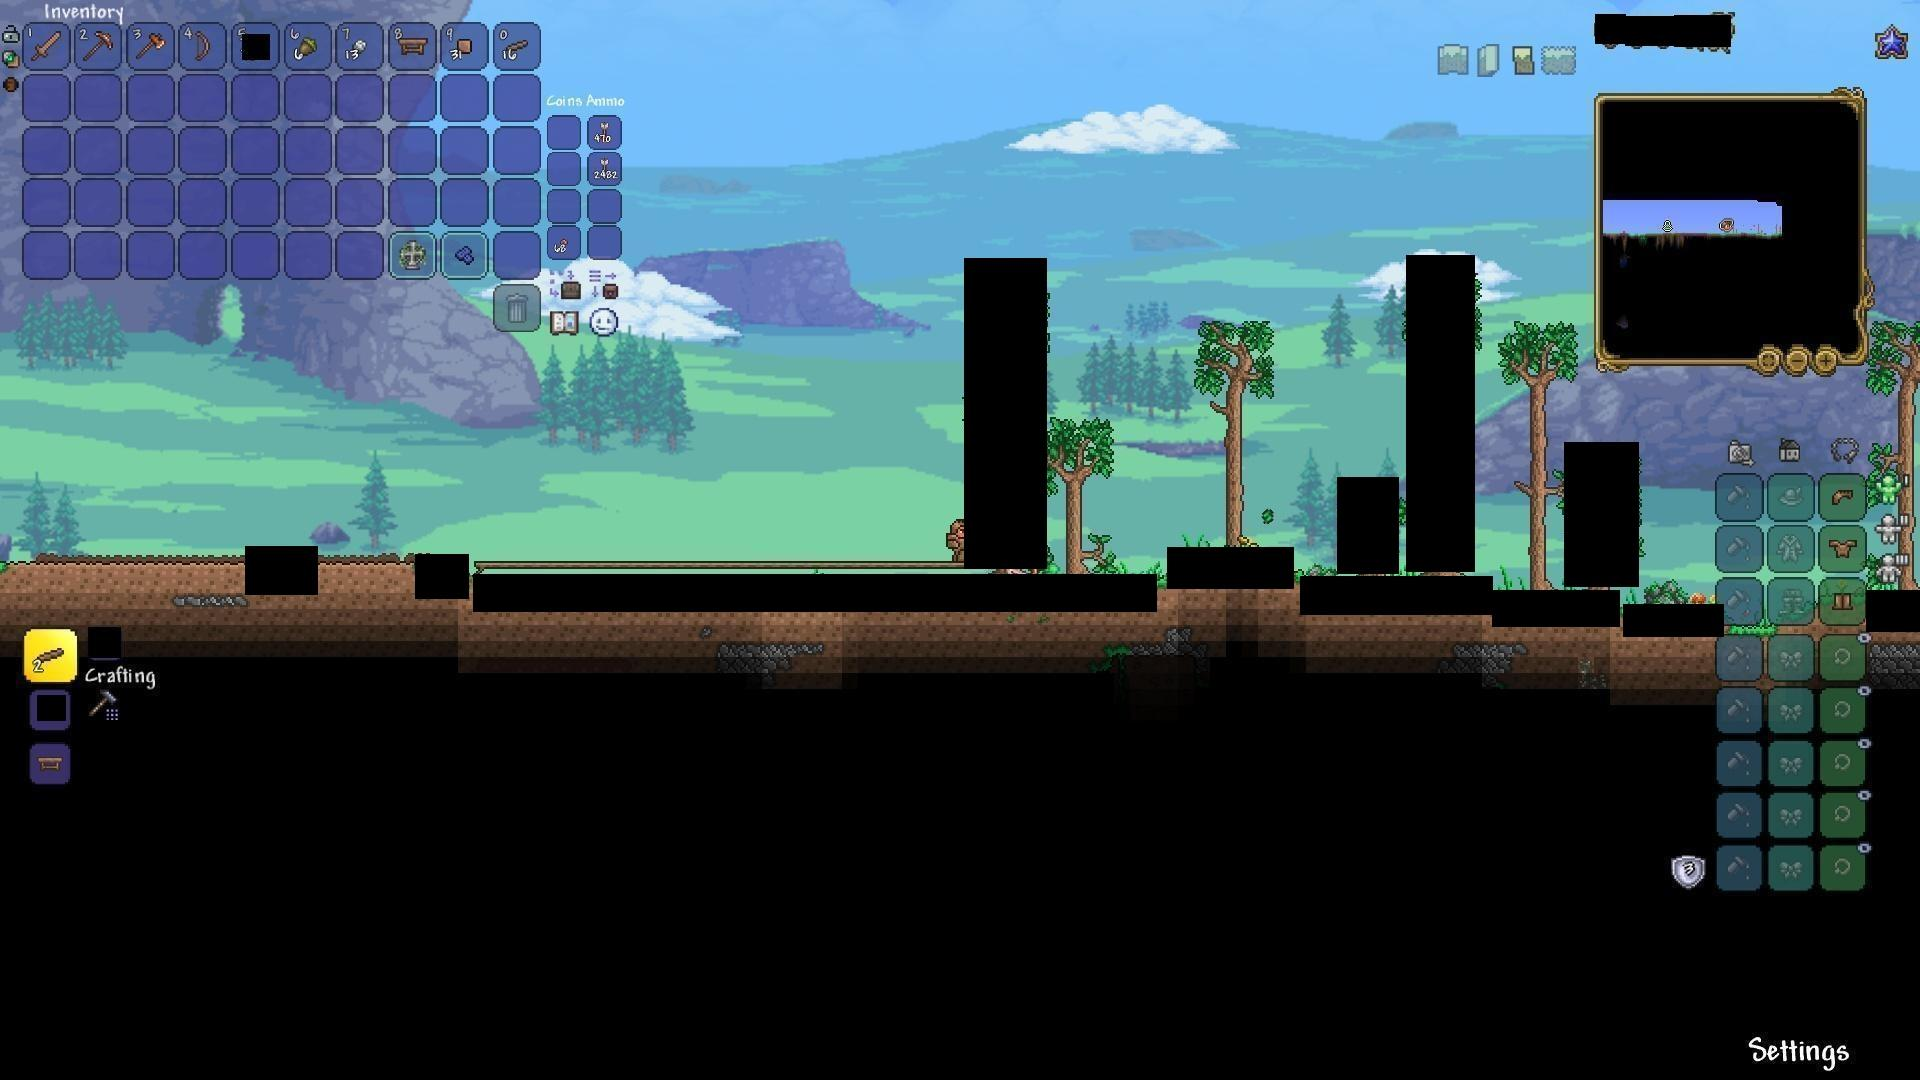breastplate: (1828, 537, 1857, 556)
helmet: (1826, 483, 1859, 510)
legs: (1832, 587, 1855, 616)
tree: (1502, 318, 1564, 587), (1204, 311, 1274, 543), (1044, 405, 1114, 572), (1888, 323, 1919, 588)
workbench: (394, 32, 431, 57), (36, 752, 66, 775)
